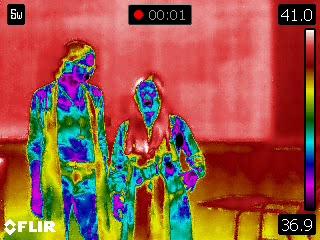human: (29, 36, 112, 240), (108, 71, 207, 240)
